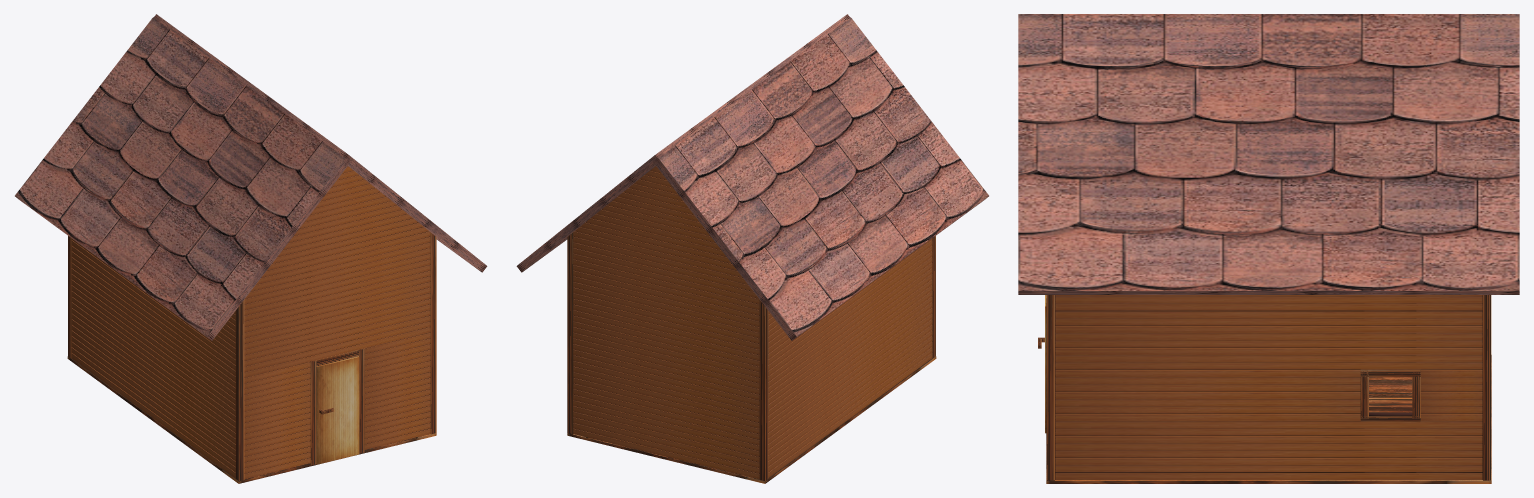
3 renders of one model, left to right at view 1: azimuth 30°, elevation 25°; view 2: azimuth 150°, elevation 25°; view 3: azimuth 270°, elevation 25°, orthographic. The views are drawn at different scales.
Parts seen in each view (by area): view 1: 立方体_2, 柱_4, 柱, 立方体_1_2, 正面→, 正面左_2, 床, 木材_31, 木材_3_23, 木材_32, 木材_1_29, 木材_13_14 (+46 smaller); view 2: 立方体_2, 背面_2, 柱, 立方体_1_2, 床, 木材_23, 木材_2_20, 木材_21, 木材_3_18, 木材_1_20, 木材_6_8, 木材_4_14 (+59 smaller); view 3: 立方体_1_2, 右左, 木材_5_4, 木材_5_5, 木材_4_6, 木材_3_8, 木材_5_6, 木材_4_7, 木材_10, 木材_6_4, 木材_6_5, 木材_4_8 (+20 smaller).
Part boxes in pixels (bbox=[...]): 立方体_2: bbox=[15, 17, 350, 340]; 柱_4: bbox=[316, 356, 359, 464]; 柱: bbox=[68, 232, 436, 481]; 立方体_1_2: bbox=[154, 14, 487, 272]; 正面→: bbox=[362, 236, 429, 447]; 正面左_2: bbox=[244, 265, 312, 478]; 床: bbox=[67, 356, 436, 483]; 木材_31: bbox=[244, 253, 430, 304]; 木材_3_23: bbox=[244, 270, 430, 321]; 木材_32: bbox=[244, 282, 430, 332]; 木材_1_29: bbox=[244, 293, 430, 343]; 木材_13_14: bbox=[244, 321, 430, 371]; 立方体_2: bbox=[653, 17, 988, 340]; 背面_2: bbox=[574, 236, 759, 478]; 柱: bbox=[567, 232, 935, 481]; 立方体_1_2: bbox=[516, 14, 849, 272]; 床: bbox=[567, 356, 936, 483]; 木材_23: bbox=[573, 349, 759, 400]; 木材_2_20: bbox=[573, 253, 759, 304]; 木材_21: bbox=[573, 270, 759, 321]; 木材_3_18: bbox=[573, 282, 759, 332]; 木材_1_20: bbox=[573, 293, 759, 343]; 木材_6_8: bbox=[573, 321, 759, 371]; 木材_4_14: bbox=[573, 332, 759, 383]; 立方体_1_2: bbox=[1018, 14, 1519, 294]; 右左: bbox=[1055, 295, 1364, 479]; 木材_5_4: bbox=[1055, 296, 1482, 303]; 木材_5_5: bbox=[1055, 303, 1482, 310]; 木材_4_6: bbox=[1055, 311, 1482, 318]; 木材_3_8: bbox=[1055, 318, 1482, 325]; 木材_5_6: bbox=[1055, 333, 1482, 340]; 木材_4_7: bbox=[1055, 340, 1482, 347]; 木材_10: bbox=[1055, 355, 1482, 362]; 木材_6_4: bbox=[1055, 362, 1482, 369]; 木材_6_5: bbox=[1055, 421, 1482, 428]; 木材_4_8: bbox=[1055, 428, 1482, 435].
Bounding box in the file's own units: 572 × 610 × 680.
Materials: 5 (5 with a texture image).
